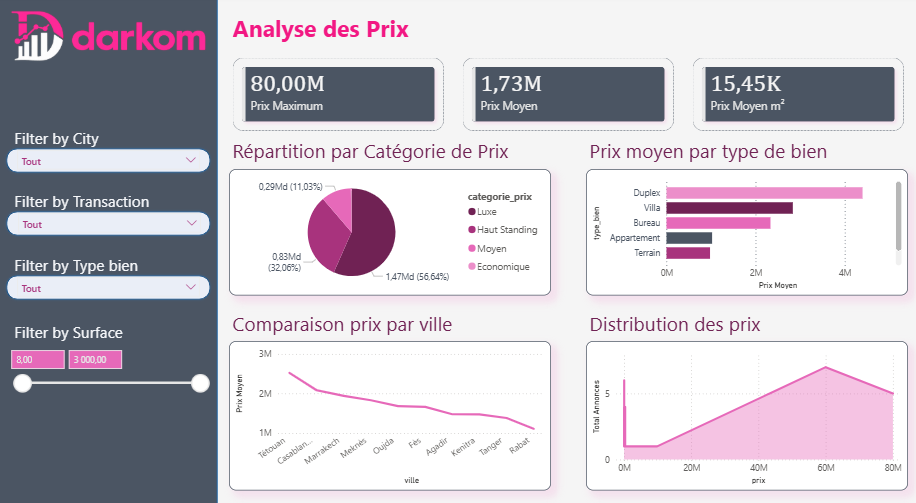

Layout of this report page (visuals, bound fields, positions):
{"tool":"powerbi","page":{"name":"analyse des prix","canvas":[1280,720],"ordinal":1},"visuals":[{"type":"shape","box":[0,0,1280,719.4],"z":0},{"type":"shape","box":[0,0,304,720],"z":1000},{"type":"image","box":[0,0,304,112],"z":2000},{"type":"textbox","title":"titel","box":[320,16,688,64],"z":3000},{"type":"cardVisual","title":"averege price per m² (card)","fields":{"Data":["bi_schema fact_annonces.Prix Maximum"]},"box":[320,80,304,112],"z":4000},{"type":"cardVisual","title":"averege price per m² (card)","fields":{"Data":["bi_schema fact_annonces.Prix Moyen m²"]},"box":[960,80,304,112],"z":5000},{"type":"cardVisual","title":"averege price per m² (card)","fields":{"Data":["bi_schema fact_annonces.Prix Moyen"]},"box":[640,80,304,112],"z":6000},{"type":"pieChart","fields":{"Y":["Sum(bi_schema fact_annonces.prix)"],"Category":["bi_schema dim_bien.categorie_prix"]},"box":[320,240,448,176],"z":7000},{"type":"barChart","fields":{"Category":["bi_schema dim_bien.type_bien"],"Y":["bi_schema fact_annonces.Prix Moyen"]},"box":[816,240,448,176],"z":8000},{"type":"lineChart","fields":{"Category":["bi_schema dim_localisation.ville"],"Y":["bi_schema fact_annonces.Prix Moyen"]},"box":[320,480,448,208],"z":9000},{"type":"shape","box":[6.9,209.1,290.2,40.2],"z":10000},{"type":"slicer","fields":{"Values":["bi_schema dim_localisation.ville"]},"box":[15.6,204.8,273.9,40.6],"z":11000},{"type":"areaChart","fields":{"Category":["bi_schema fact_annonces.prix"],"Y":["bi_schema fact_annonces.Total Annonces"]},"box":[816,480,448,208],"z":12000},{"type":"textbox","title":"titel","box":[16.2,178.4,272,48],"z":13000},{"type":"shape","box":[7.5,296.5,290.2,40.2],"z":14000},{"type":"slicer","fields":{"Values":["bi_schema dim_bien.transaction"]},"box":[16.2,292.1,273.9,40.6],"z":15000},{"type":"textbox","title":"titel","box":[16.9,265.7,272,48],"z":16000},{"type":"shape","box":[7.3,385.9,290.2,40.2],"z":17000},{"type":"slicer","fields":{"Values":["bi_schema dim_bien.type_bien"]},"box":[15.9,381.5,273.9,40.6],"z":18000},{"type":"textbox","title":"titel","box":[16.6,355.1,272,48],"z":19000},{"type":"textbox","title":"titel","box":[320,192,432,48],"z":20000},{"type":"textbox","title":"titel","box":[816,192,416,48],"z":21000},{"type":"textbox","title":"titel","box":[320,432,368,48],"z":22000},{"type":"textbox","title":"titel","box":[816,432,304,48],"z":23000},{"type":"textbox","title":"titel","box":[16,448,272,48],"z":24000},{"type":"slicer","fields":{"Values":["bi_schema fact_annonces.surface"]},"box":[3.6,482.5,297,75.8],"z":25000}]}

Visuals, with their boxes in screenshot pixels (x1, y1, x2, y2), scaled from the page's 1280x720 canvas onto the 916x503 screenshot:
shape: locate(0, 0, 915, 502)
shape: locate(0, 0, 218, 502)
image: locate(0, 0, 218, 78)
"titel" textbox: locate(229, 11, 721, 56)
"averege price per m² (card)" cardVisual: locate(229, 56, 447, 134)
"averege price per m² (card)" cardVisual: locate(687, 56, 905, 134)
"averege price per m² (card)" cardVisual: locate(458, 56, 676, 134)
pieChart - Sum(bi_schema fact_annonces.prix) x bi_schema dim_bien.categorie_prix: locate(229, 168, 550, 291)
barChart - bi_schema dim_bien.type_bien x bi_schema fact_annonces.Prix Moyen: locate(584, 168, 905, 291)
lineChart - bi_schema dim_localisation.ville x bi_schema fact_annonces.Prix Moyen: locate(229, 335, 550, 481)
shape: locate(5, 146, 213, 174)
slicer - bi_schema dim_localisation.ville: locate(11, 143, 207, 171)
areaChart - bi_schema fact_annonces.prix x bi_schema fact_annonces.Total Annonces: locate(584, 335, 905, 481)
"titel" textbox: locate(12, 125, 206, 158)
shape: locate(5, 207, 213, 235)
slicer - bi_schema dim_bien.transaction: locate(12, 204, 208, 232)
"titel" textbox: locate(12, 186, 207, 219)
shape: locate(5, 270, 213, 298)
slicer - bi_schema dim_bien.type_bien: locate(11, 267, 207, 295)
"titel" textbox: locate(12, 248, 207, 282)
"titel" textbox: locate(229, 134, 538, 168)
"titel" textbox: locate(584, 134, 882, 168)
"titel" textbox: locate(229, 302, 492, 335)
"titel" textbox: locate(584, 302, 802, 335)
"titel" textbox: locate(11, 313, 206, 347)
slicer - bi_schema fact_annonces.surface: locate(3, 337, 215, 390)
